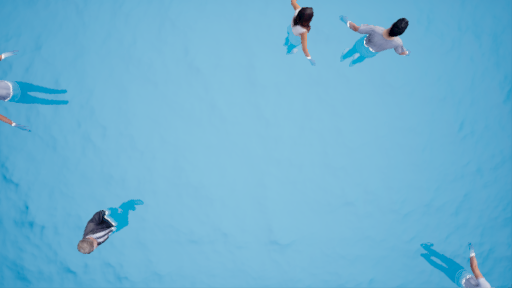person: (337, 11, 415, 71), (71, 200, 150, 255), (279, 1, 322, 70)
